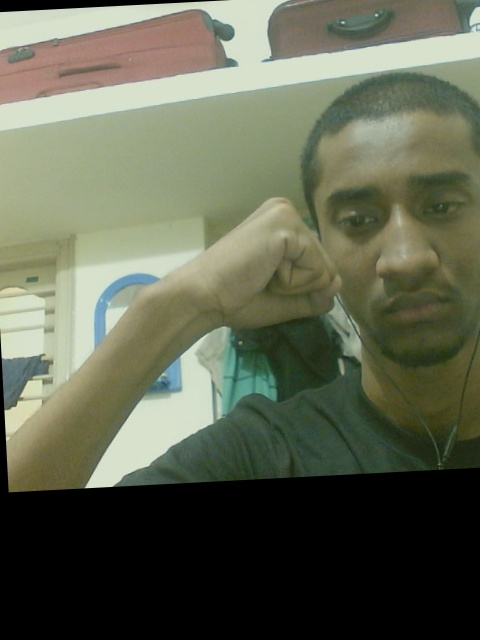hand: (168, 192, 345, 337)
